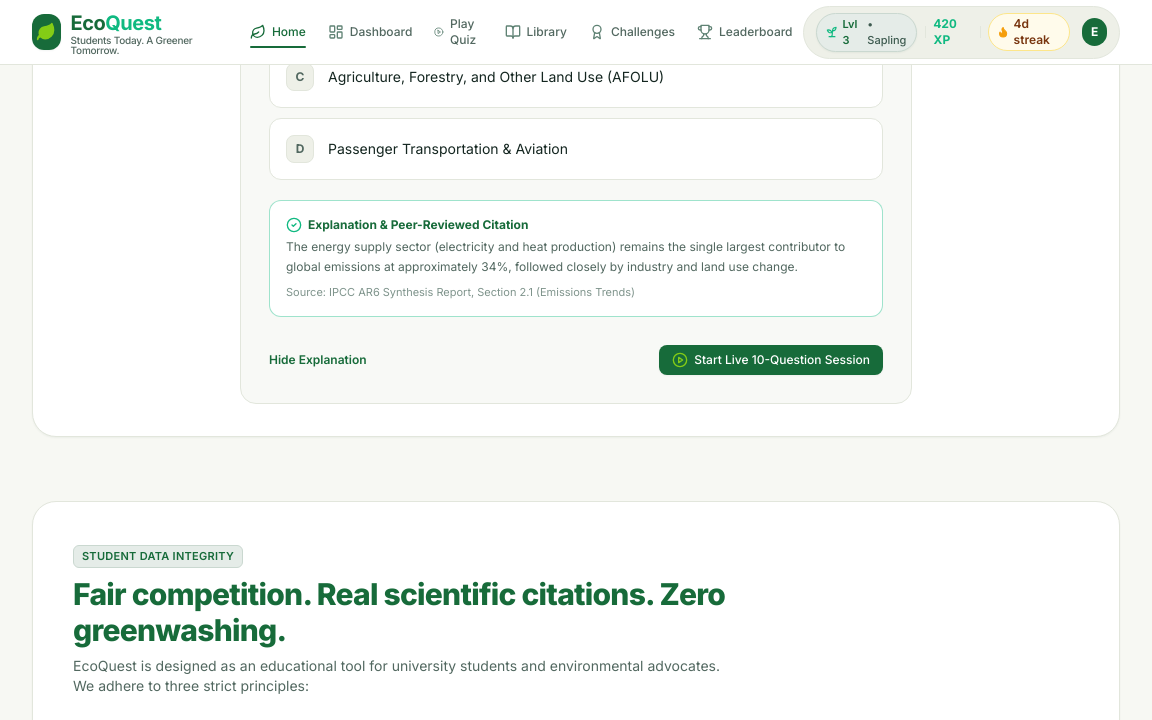
Test case: Stage 4 — Landing Page & Public UX Verification › renders interactive 3-step How EcoQuest Works and sample demonstration question card
(page scrolled)
Click the button "Hide Explanation".
click(318, 360)  # box left=269, top=352, right=367, bottom=368
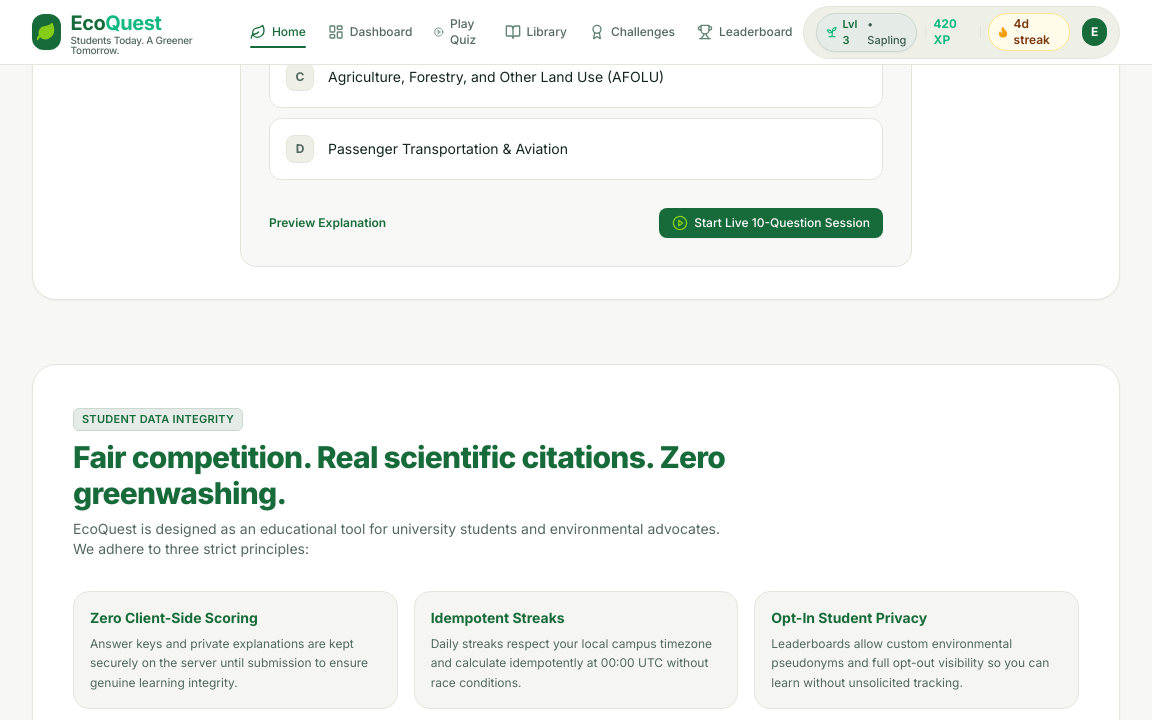
Now the button "Preview Explanation" is shown, box left=269, top=215, right=386, bottom=231
